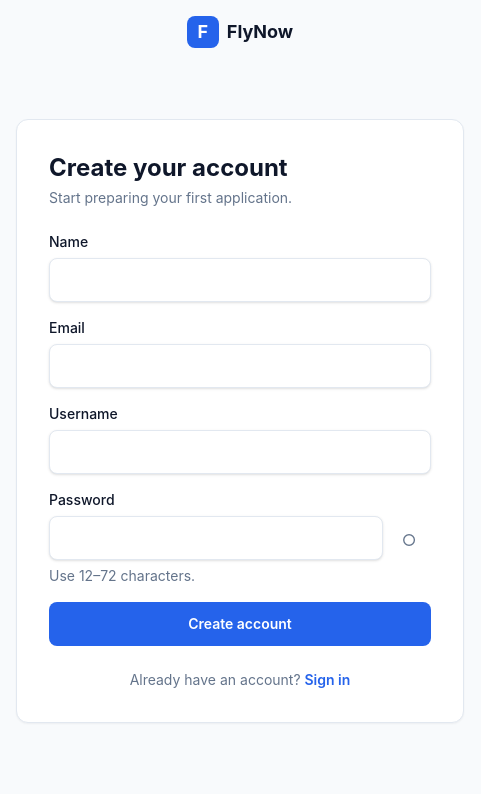
Test case: authentication › shows a username conflict returned by the service
The image size is (481, 794).
Check: the heading "Create your account" is shown, box [49,153,288,182]
In the field labelled "Name": (240, 280) [49,258,431,302], type "Another Developer"
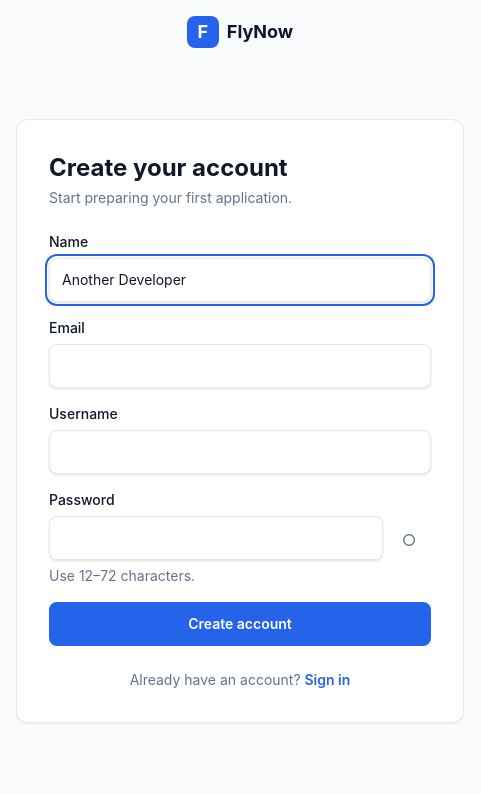
In the field labelled "Email": (240, 366) [49,344,431,388], type "another@example.com"
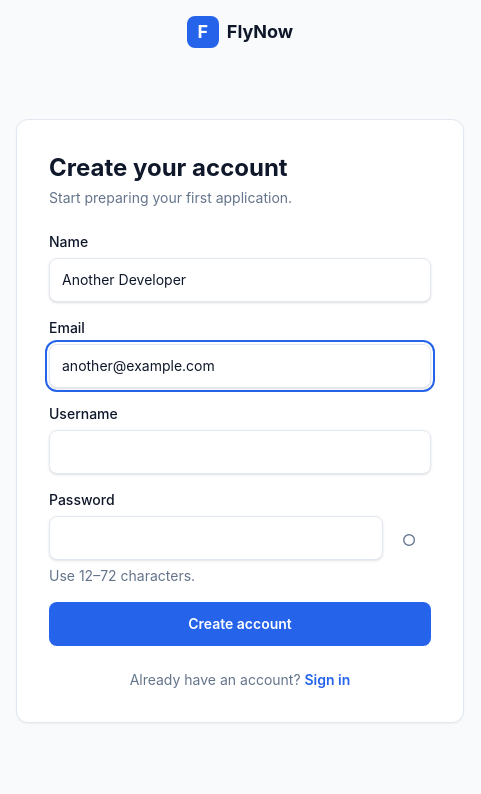
In the field labelled "Username": (240, 452) [49,430,431,474], type "demo"
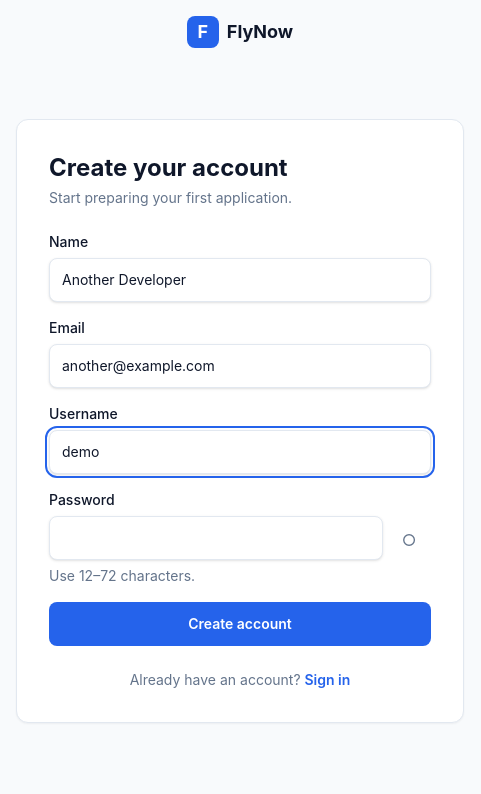
In the password field labelled "Password": (216, 538) [49,516,383,560], type "verysecure123"
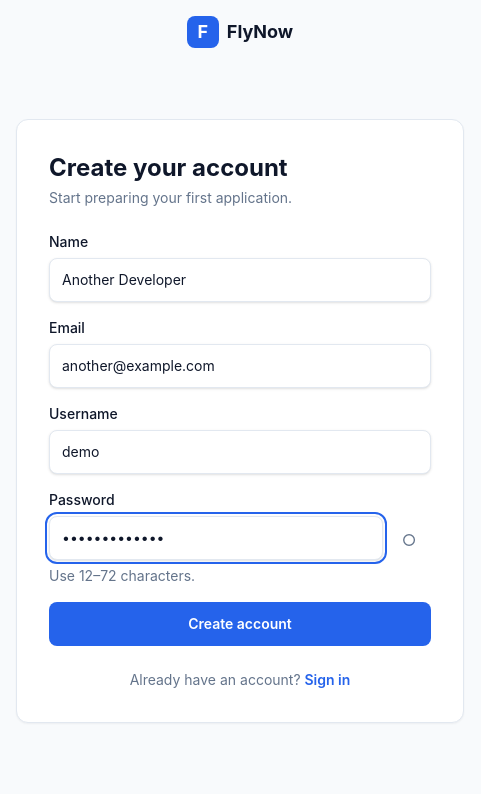
Click the button "Create account": (240, 624) [49,602,431,646]
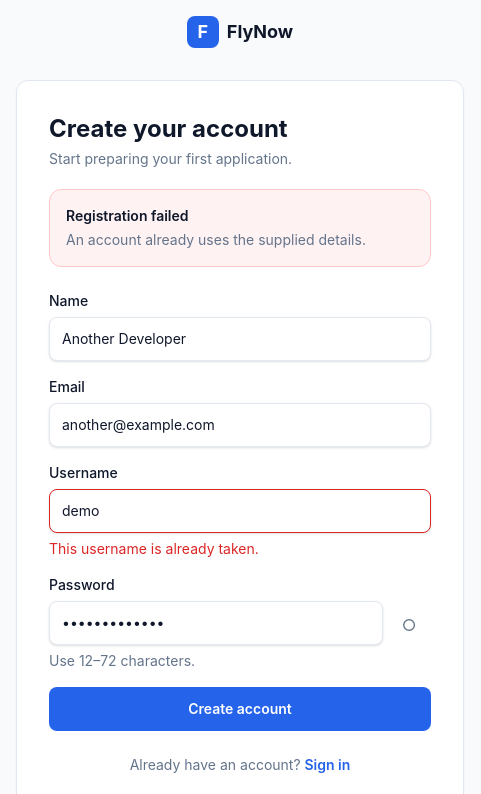
Check: the text "This username is already taken." is shown, box [49,540,259,557]
